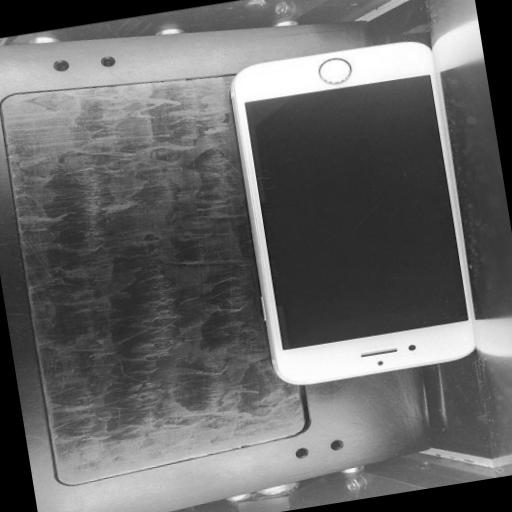phone: (228, 39, 474, 386)
